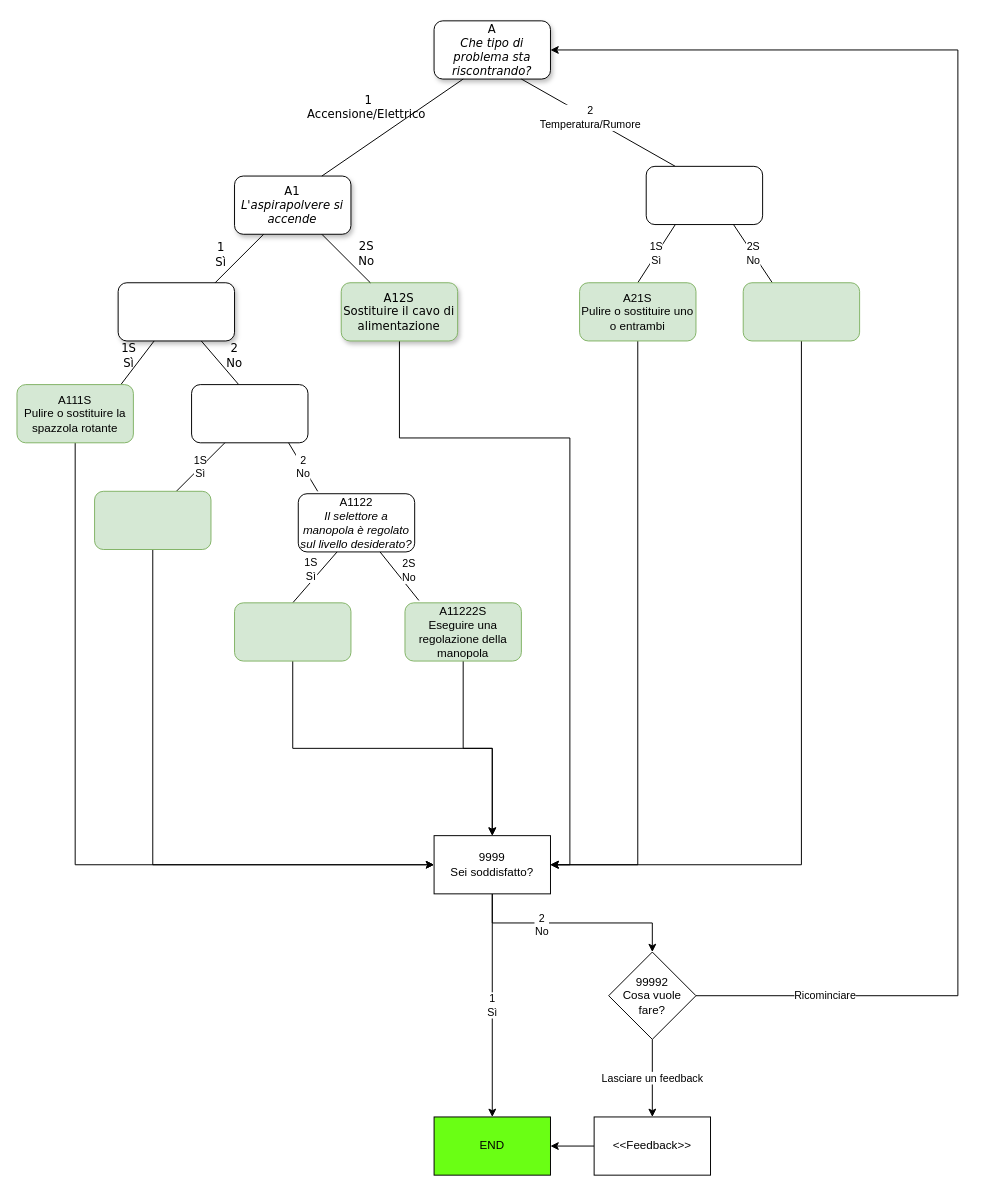
The diagram is 983 pixels wide and 1192 high, and some of its shapes have lost their labels. The shapes that lost their labels are listed below. From the top down, each one's centre as x and y in pixels, then its label:
At (x=704, y=195): "A2 Il tubo o il flessibile sono ostruiti?".
At (x=176, y=313): "A11 La spazzola rotante è sporca?".
At (x=801, y=311): "A22S Il motore è in stato di corto circuito! Sostituiscilo".
At (x=249, y=413): "A112 Il sacchetto è pieno?".
At (x=152, y=520): "A1121S Svuotare il sacchetto".
At (x=292, y=631): "A11221S Pulire o sostituire il filtro d'aspirazione".
